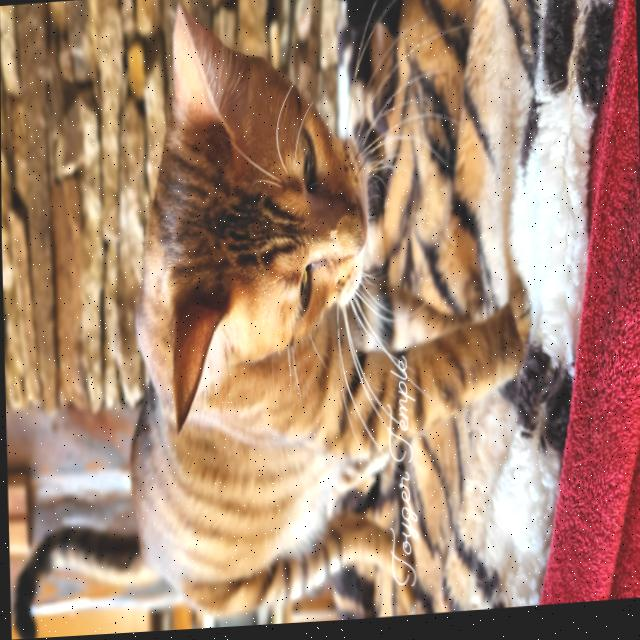Toyger: (0, 0, 540, 640)
